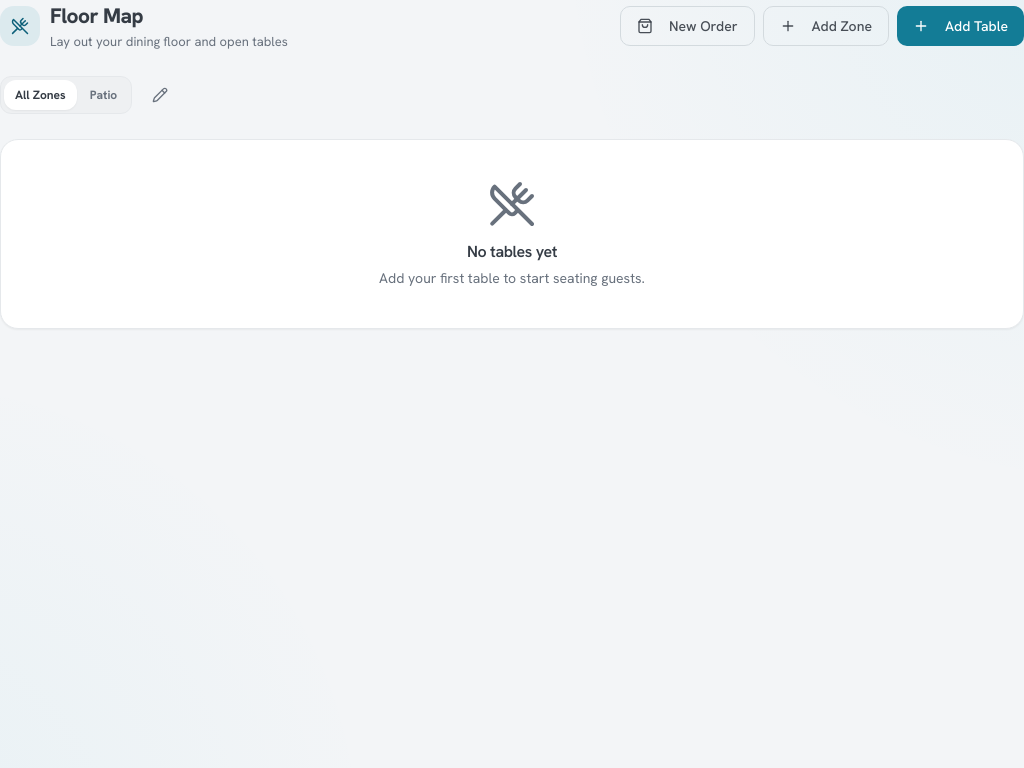
Scenario: FloorMap form input labelling a11y (ISSUE-226) › names each add-table form control from its visible caption
Click the button "Add Table".
click(960, 26)  # box [897,6,1023,46]
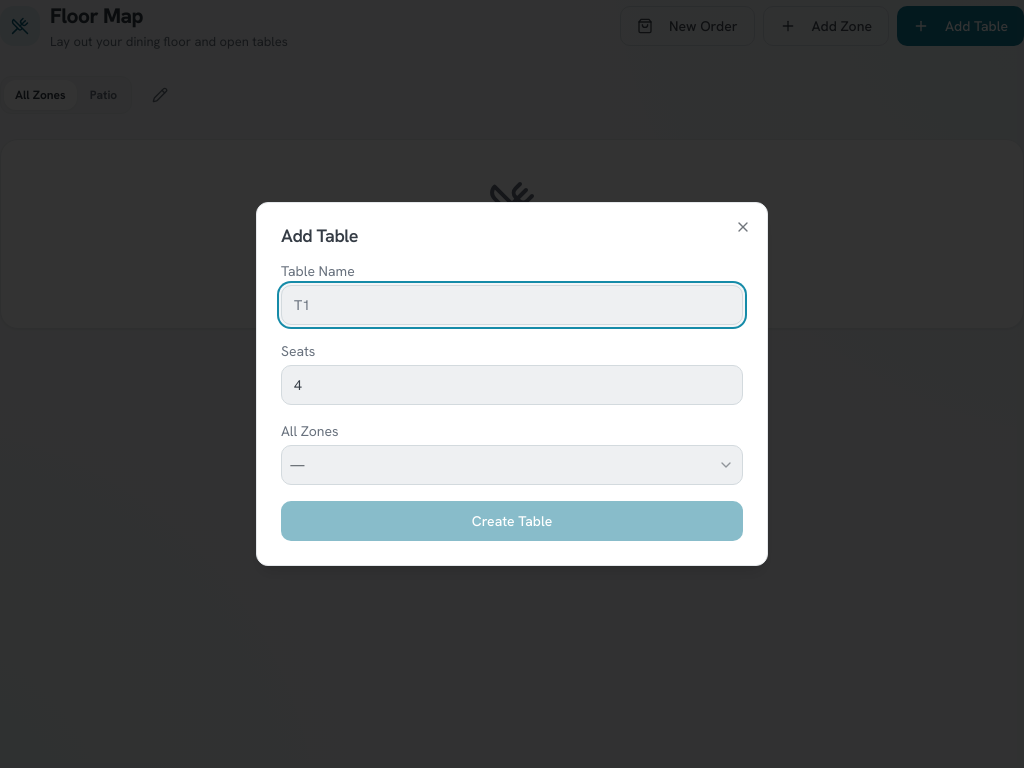
Check: the field labelled "Table Name" is shown, box [281,285,743,325]
Check: the number field labelled "Seats" is shown, box [281,365,743,405]
Check: the dropdown named "All Zones" is shown, box [281,445,743,485]
